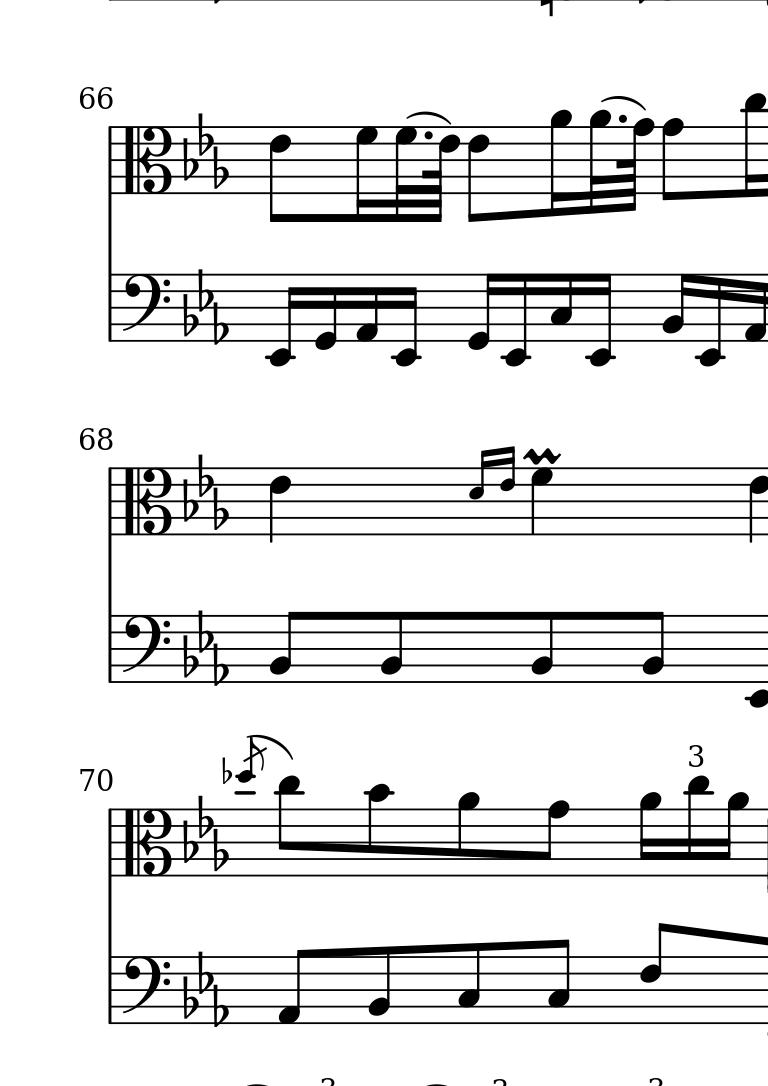0: (94, 767, 113, 794)
16_-2: (266, 272, 304, 367), (501, 273, 530, 369), (586, 270, 614, 368), (696, 272, 724, 368), (392, 272, 419, 368)
16_0: (464, 272, 499, 351), (314, 270, 339, 351)
16_1: (353, 272, 381, 342), (743, 269, 768, 344)
16_11: (684, 776, 712, 878), (742, 91, 767, 201)
16_2: (660, 273, 693, 344)
16_3: (549, 271, 575, 344)
16_7: (354, 125, 379, 224)
16_9: (719, 791, 751, 879), (548, 109, 573, 217), (638, 792, 663, 879)
3: (686, 742, 704, 770)
32_7: (394, 123, 419, 224)
32_9: (587, 108, 615, 216)
4_6: (267, 465, 291, 548), (746, 466, 768, 550)
4_7: (530, 466, 555, 537)
6: (77, 84, 97, 110), (96, 85, 115, 109), (79, 427, 95, 453)
64_6: (422, 125, 460, 225)
64_8: (619, 118, 656, 213)
7: (79, 767, 94, 792)
8: (97, 426, 112, 453)
8_1: (274, 947, 311, 1027)
8_10: (366, 783, 391, 878)
8_11: (276, 775, 301, 878)
8_2: (365, 945, 393, 1025), (270, 611, 301, 683), (641, 611, 665, 688), (380, 611, 404, 685), (531, 611, 554, 687)
8_3: (545, 938, 571, 1026), (456, 941, 481, 1026)
8_5: (466, 448, 492, 537)
8_6: (639, 921, 674, 1024), (268, 126, 292, 224), (466, 126, 490, 224), (498, 445, 517, 537)
8_8: (539, 799, 571, 876), (661, 117, 686, 203)
8_9: (457, 791, 480, 878)
Acciaccature: (237, 738, 264, 878)
Appoggiature_2: (469, 445, 517, 534)
Cclef: (120, 466, 177, 537), (122, 807, 176, 881), (122, 126, 175, 195)
E_F: (181, 111, 229, 190), (182, 608, 230, 687), (181, 453, 230, 529), (182, 794, 228, 873), (183, 950, 229, 1027), (182, 267, 228, 343)
Fclef: (122, 955, 175, 1027), (123, 613, 175, 685), (123, 272, 173, 344)
ShortTrill: (522, 445, 564, 464)
Single_barline: (102, 273, 120, 342), (102, 615, 120, 683), (101, 809, 119, 876), (101, 468, 119, 535), (102, 956, 119, 1025), (103, 126, 118, 196)
Slur: (246, 731, 297, 761), (406, 110, 450, 126), (604, 94, 645, 111)
dot: (614, 112, 629, 124), (422, 128, 433, 141)
